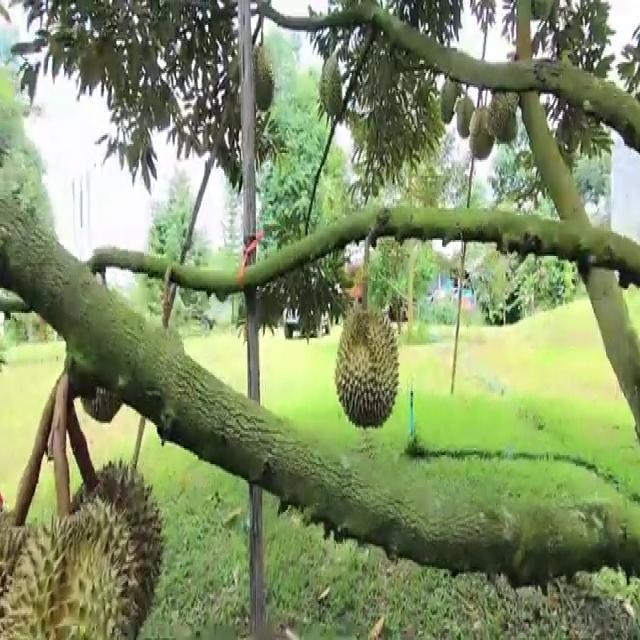durian: (58, 450, 167, 636), (35, 496, 141, 638), (329, 299, 405, 436), (1, 504, 73, 638), (248, 40, 276, 115), (319, 51, 347, 122), (467, 100, 496, 165), (452, 83, 477, 143), (437, 74, 458, 128)
